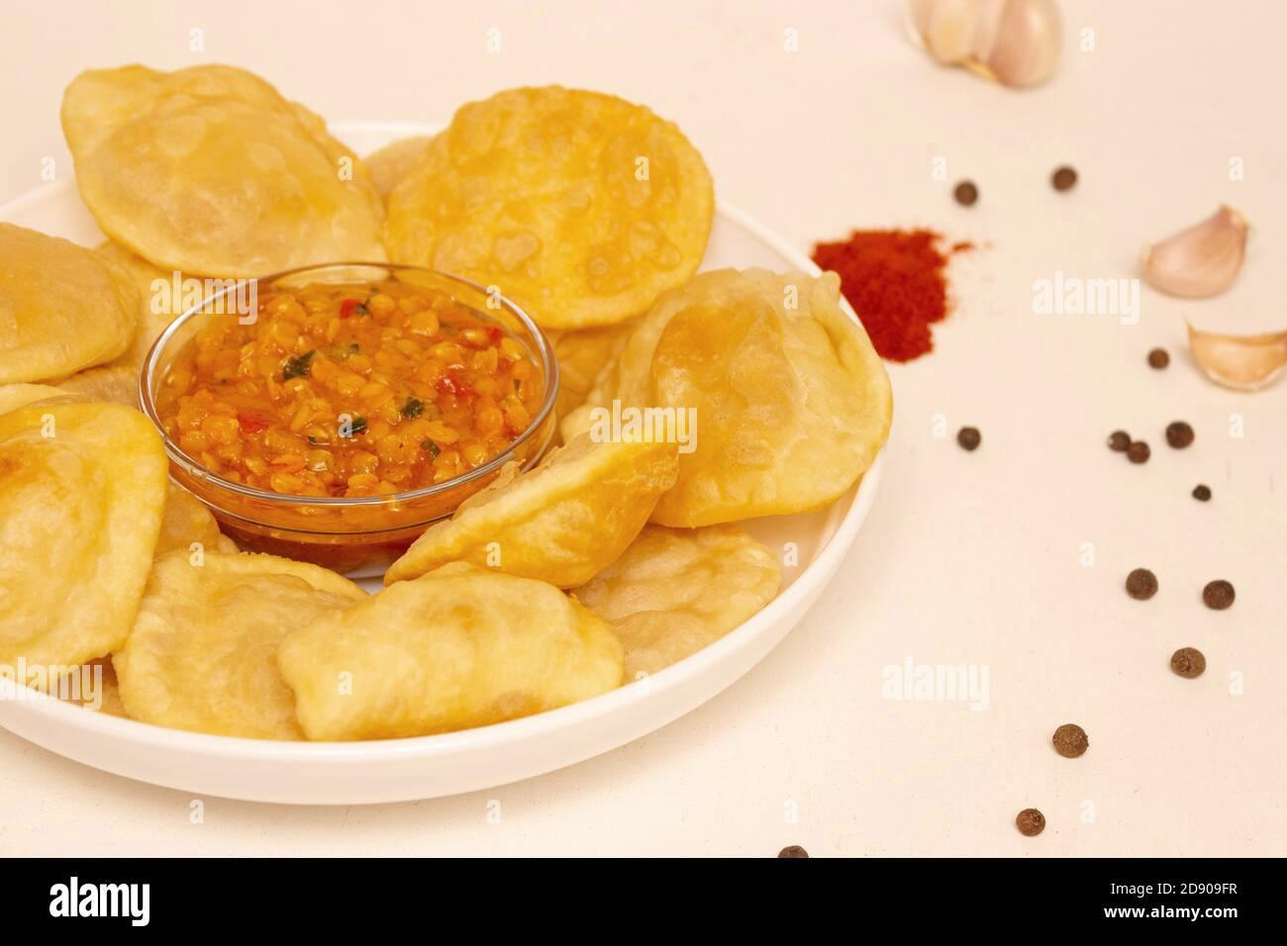puri: (559, 74, 893, 698), (17, 54, 747, 272), (0, 524, 720, 737)
